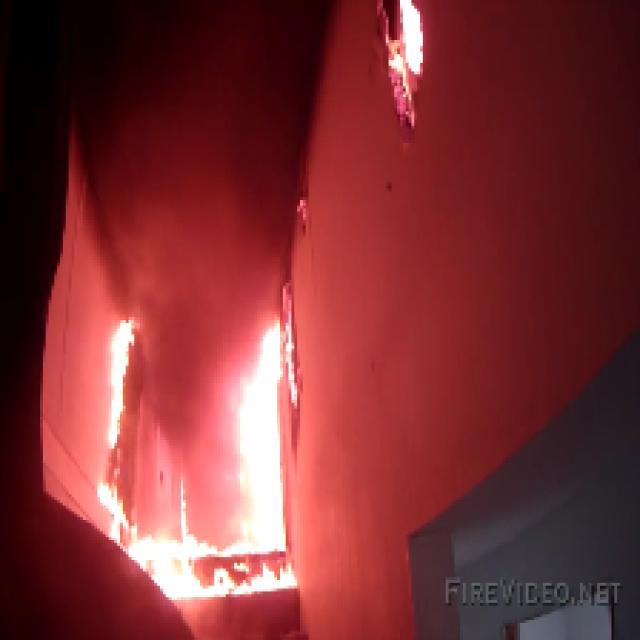Fire: (126, 534, 294, 597), (240, 328, 286, 532), (92, 326, 134, 532)
Smoke: (114, 68, 286, 306)
